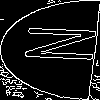N: (25, 25, 100, 64)
